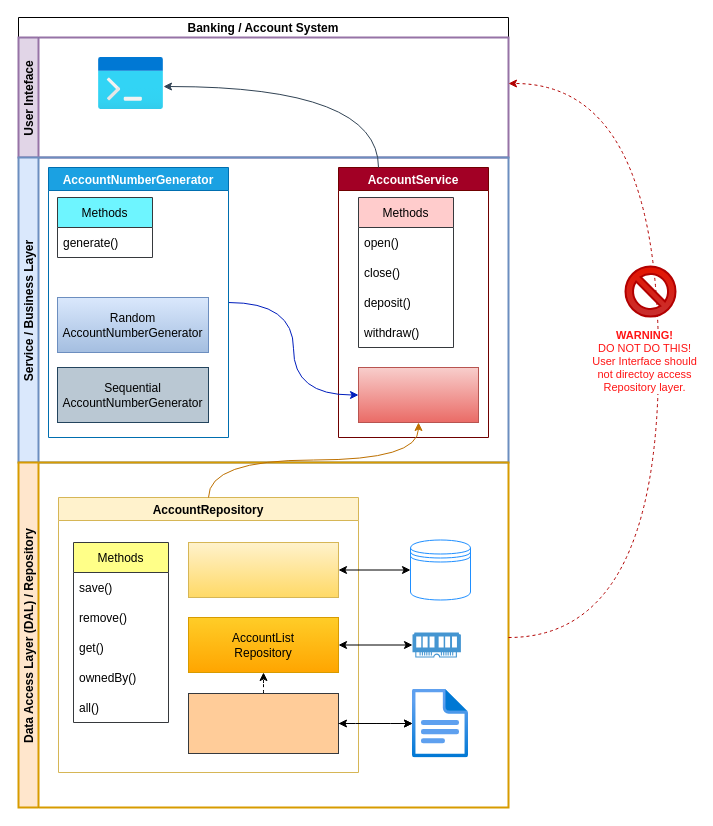
Some shapes in this 713 by 826 pixel diagram are drawn without their labels. The shapes that lost their labels are listed below. From the top down, each one's centre as x and y in pixels, then its label:
At [130,83]: "Console Application".
At [418,394]: "Default AccountService".
At [263,570]: "AccountJDBC Repository".
At [440,569]: "MySQL".
At [436,644]: "Memory".
At [263,723]: "AccountCSV Repository".
At [440,723]: "CSV File ./Data/Account.csv".
